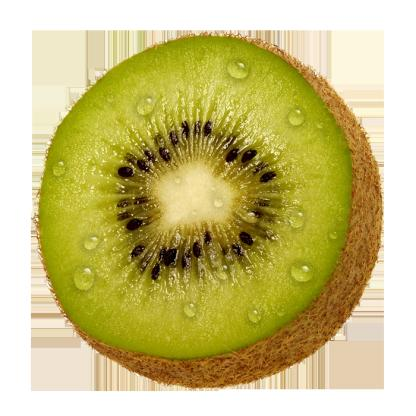--: (24, 20, 392, 394)
